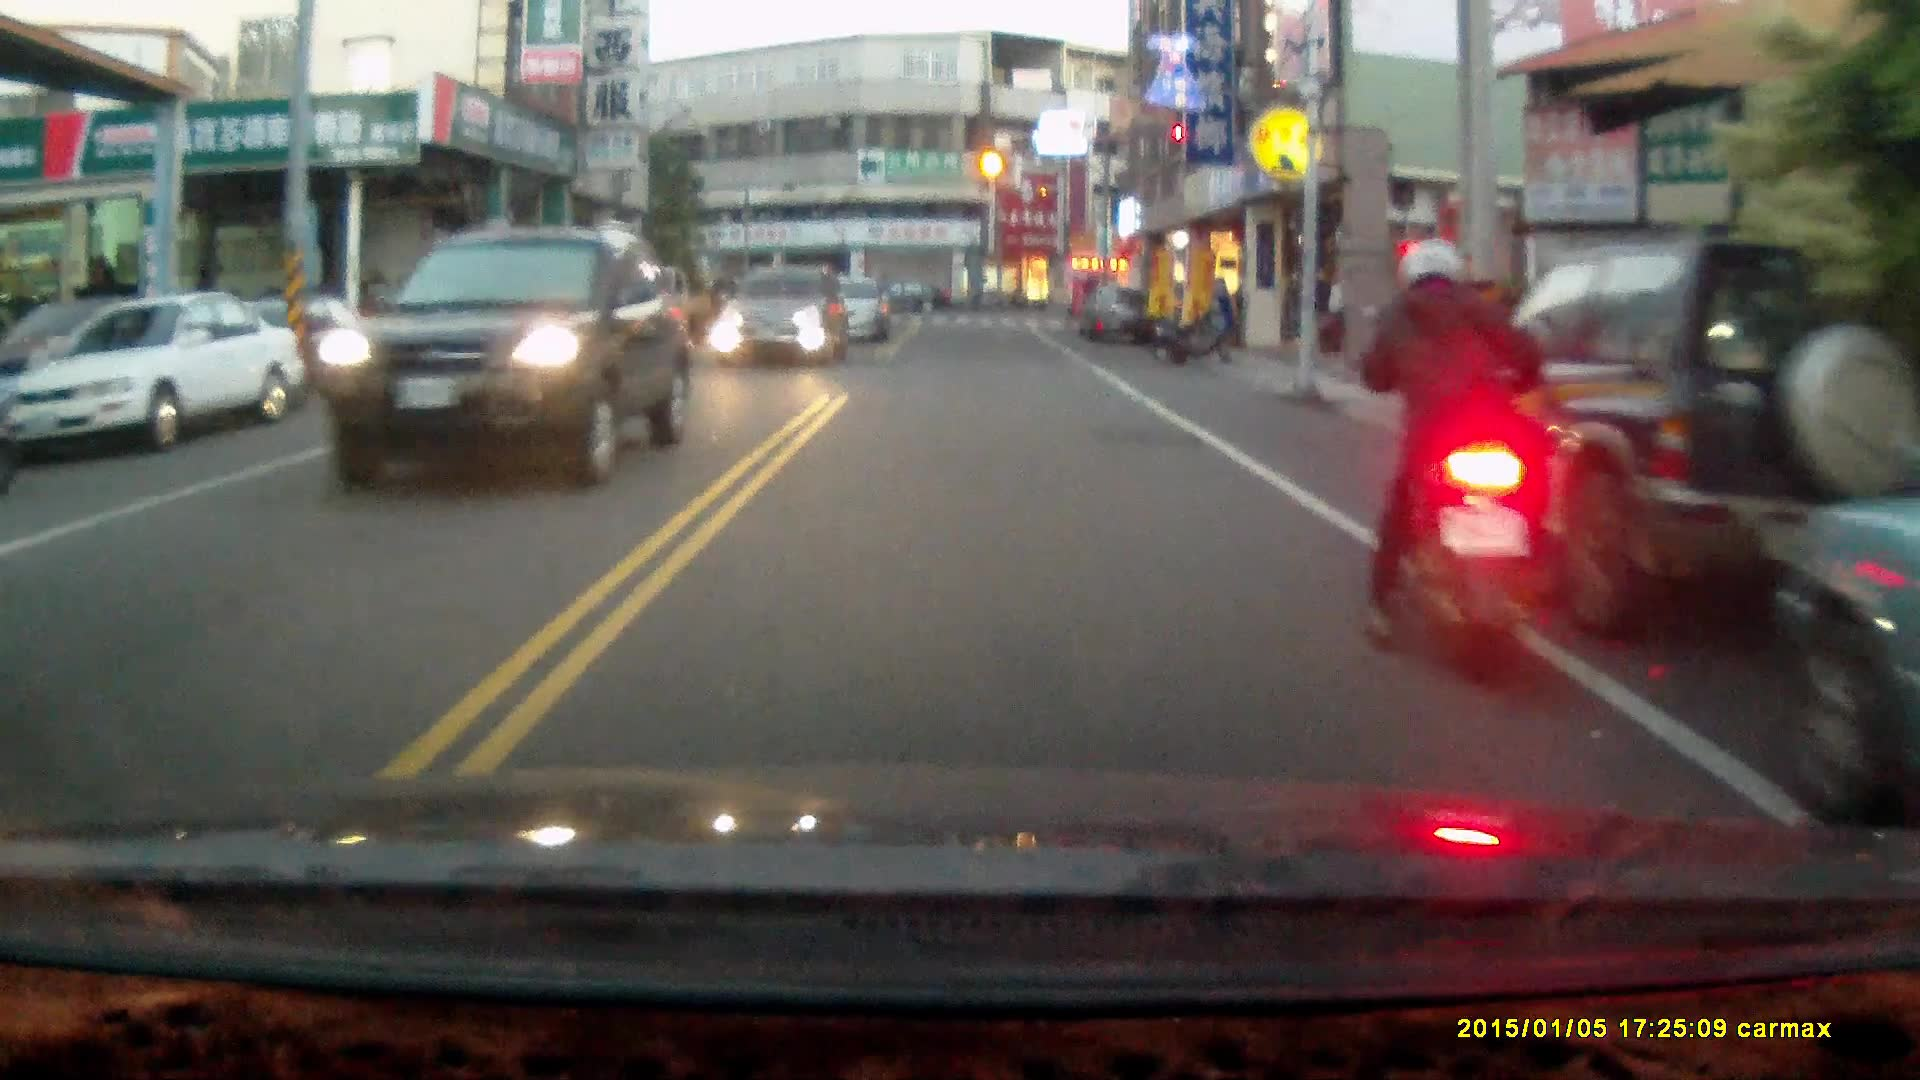rider: (1353, 234, 1575, 683)
vehicle: (1422, 238, 1920, 640), (317, 232, 678, 499), (9, 295, 309, 464), (714, 268, 855, 371), (1080, 286, 1153, 347)
